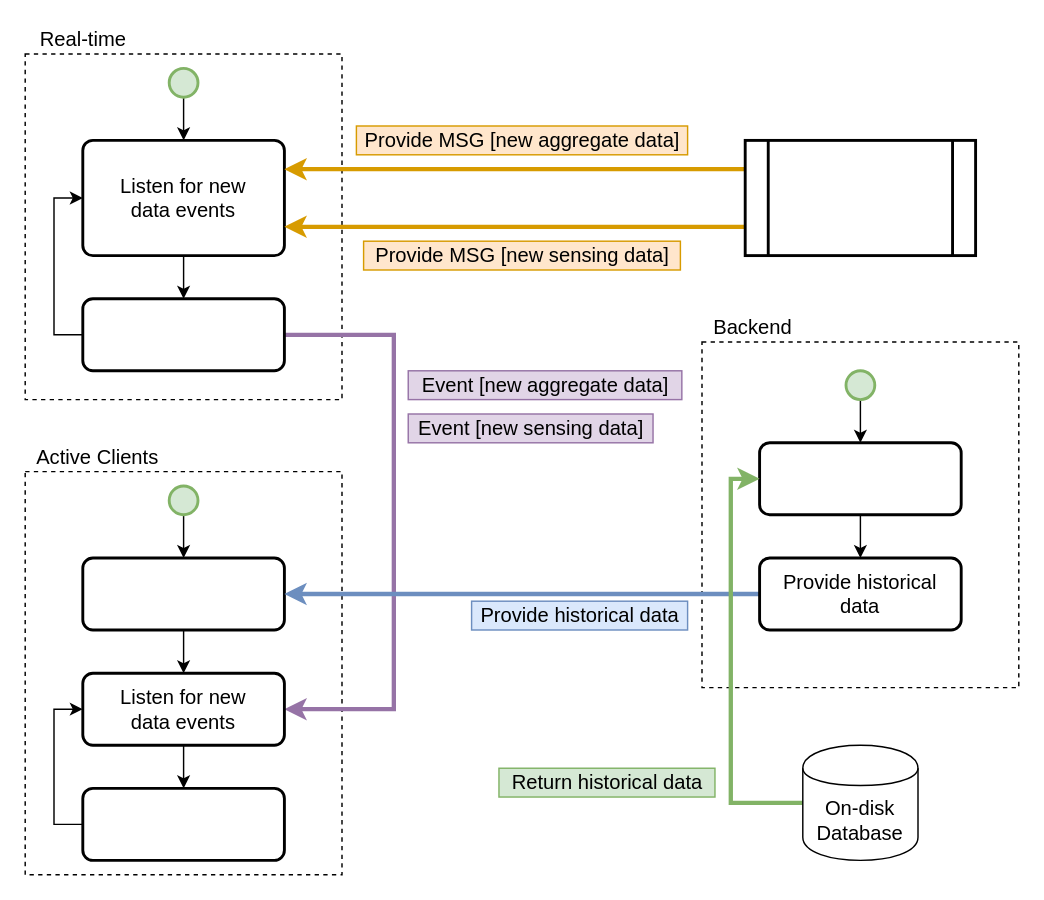
Some shapes in this 1044 by 900 pixel diagram are drawn without their labels. Here are the shapes that lost their labels. From the top down, the centre of each, then its label:
point (859, 197): Message Queue
point (183, 334): Broadcast to relevant clients
point (859, 478): Retrieve historical data
point (183, 593): Preload historical data
point (183, 823): Inject new data to visualisation
